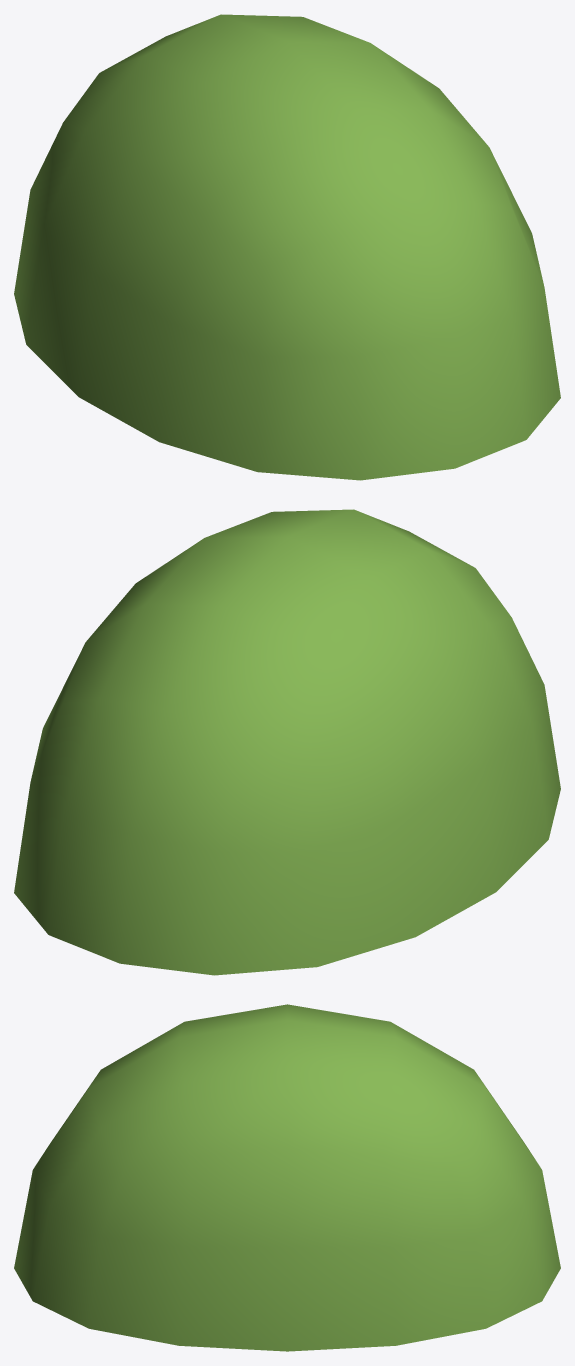
Rendered from buisson-ete.gltf.
The picture shows the model from 3 angles, top to bottom: view 1: azimuth 30°, elevation 25°; view 2: azimuth 150°, elevation 25°; view 3: azimuth 270°, elevation 25°; orthographic projection. The views are drawn at different scales.
Parts seen in each view (by area): view 1: buisson.001; view 2: buisson.001; view 3: buisson.001.
Part boxes in pixels (x1=…): buisson.001: x1=14, y1=14, x2=560, y2=480; buisson.001: x1=14, y1=509, x2=560, y2=975; buisson.001: x1=14, y1=1004, x2=560, y2=1351.
Size of the model in its own units: 0.6461 by 0.4484 by 0.8967.
